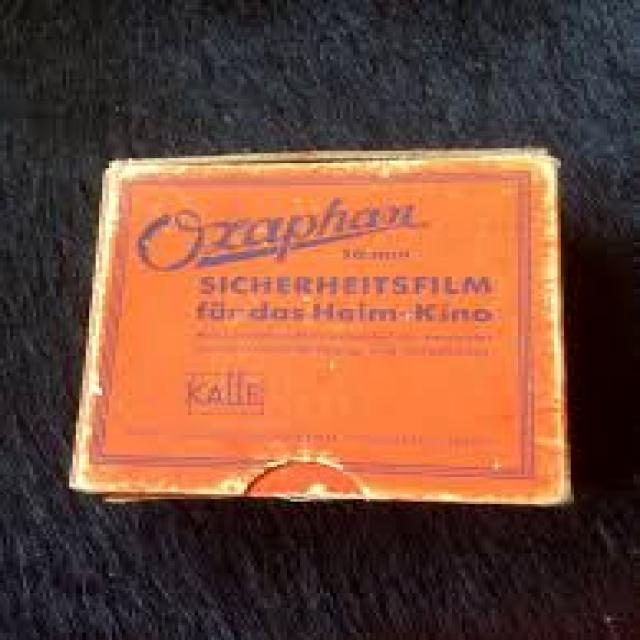Cardboard: (63, 153, 583, 508)
